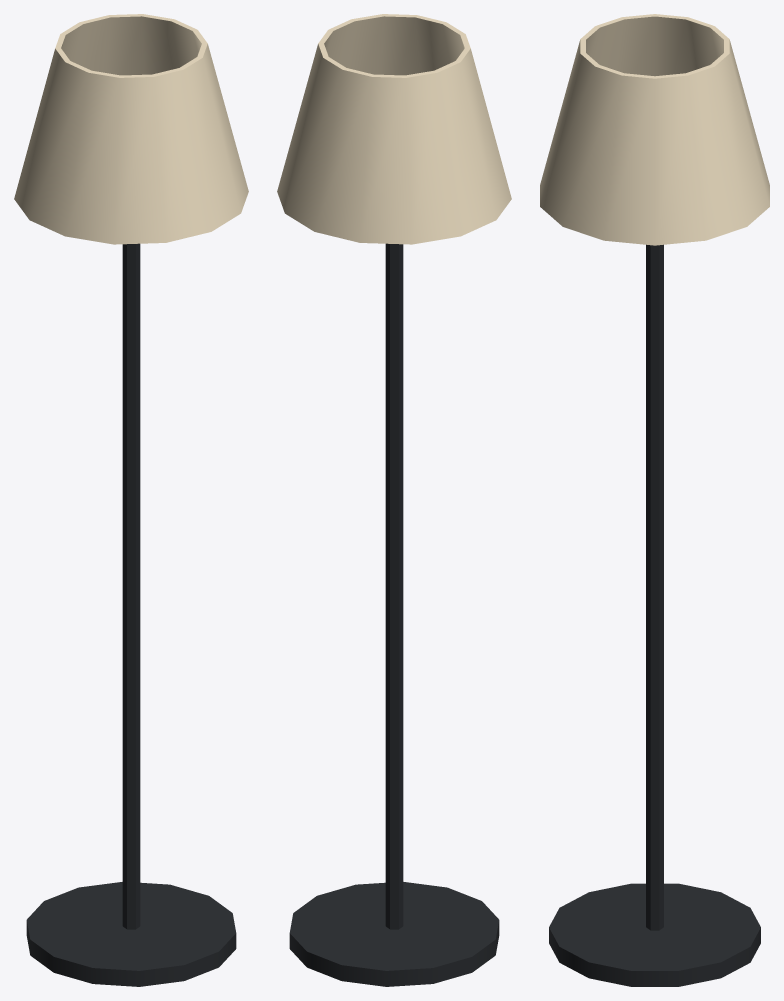
Rendered from floor_lamp.glb.
3 renders of one model, left to right at view 1: azimuth 30°, elevation 25°; view 2: azimuth 150°, elevation 25°; view 3: azimuth 270°, elevation 25°, orthographic.
Parts seen in each view (by area): view 1: floor_lamp; view 2: floor_lamp; view 3: floor_lamp.
Part boxes in pixels (left/top/right/bottom): floor_lamp: left=14, top=14, right=248, bottom=986; floor_lamp: left=277, top=14, right=511, bottom=986; floor_lamp: left=540, top=14, right=769, bottom=986.
Size of the model in its own units: 0.4 by 1.68 by 0.39.
